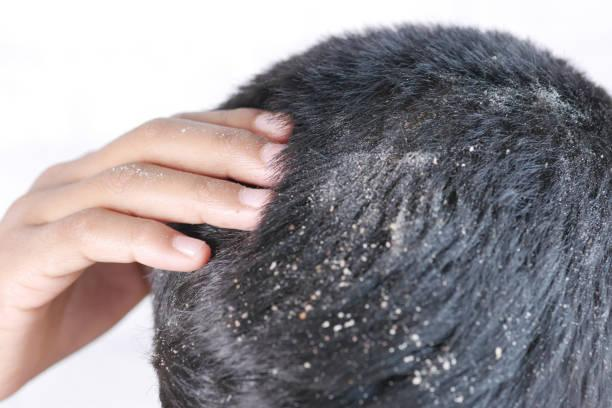dandruff: (259, 239, 498, 386), (321, 94, 587, 218)
